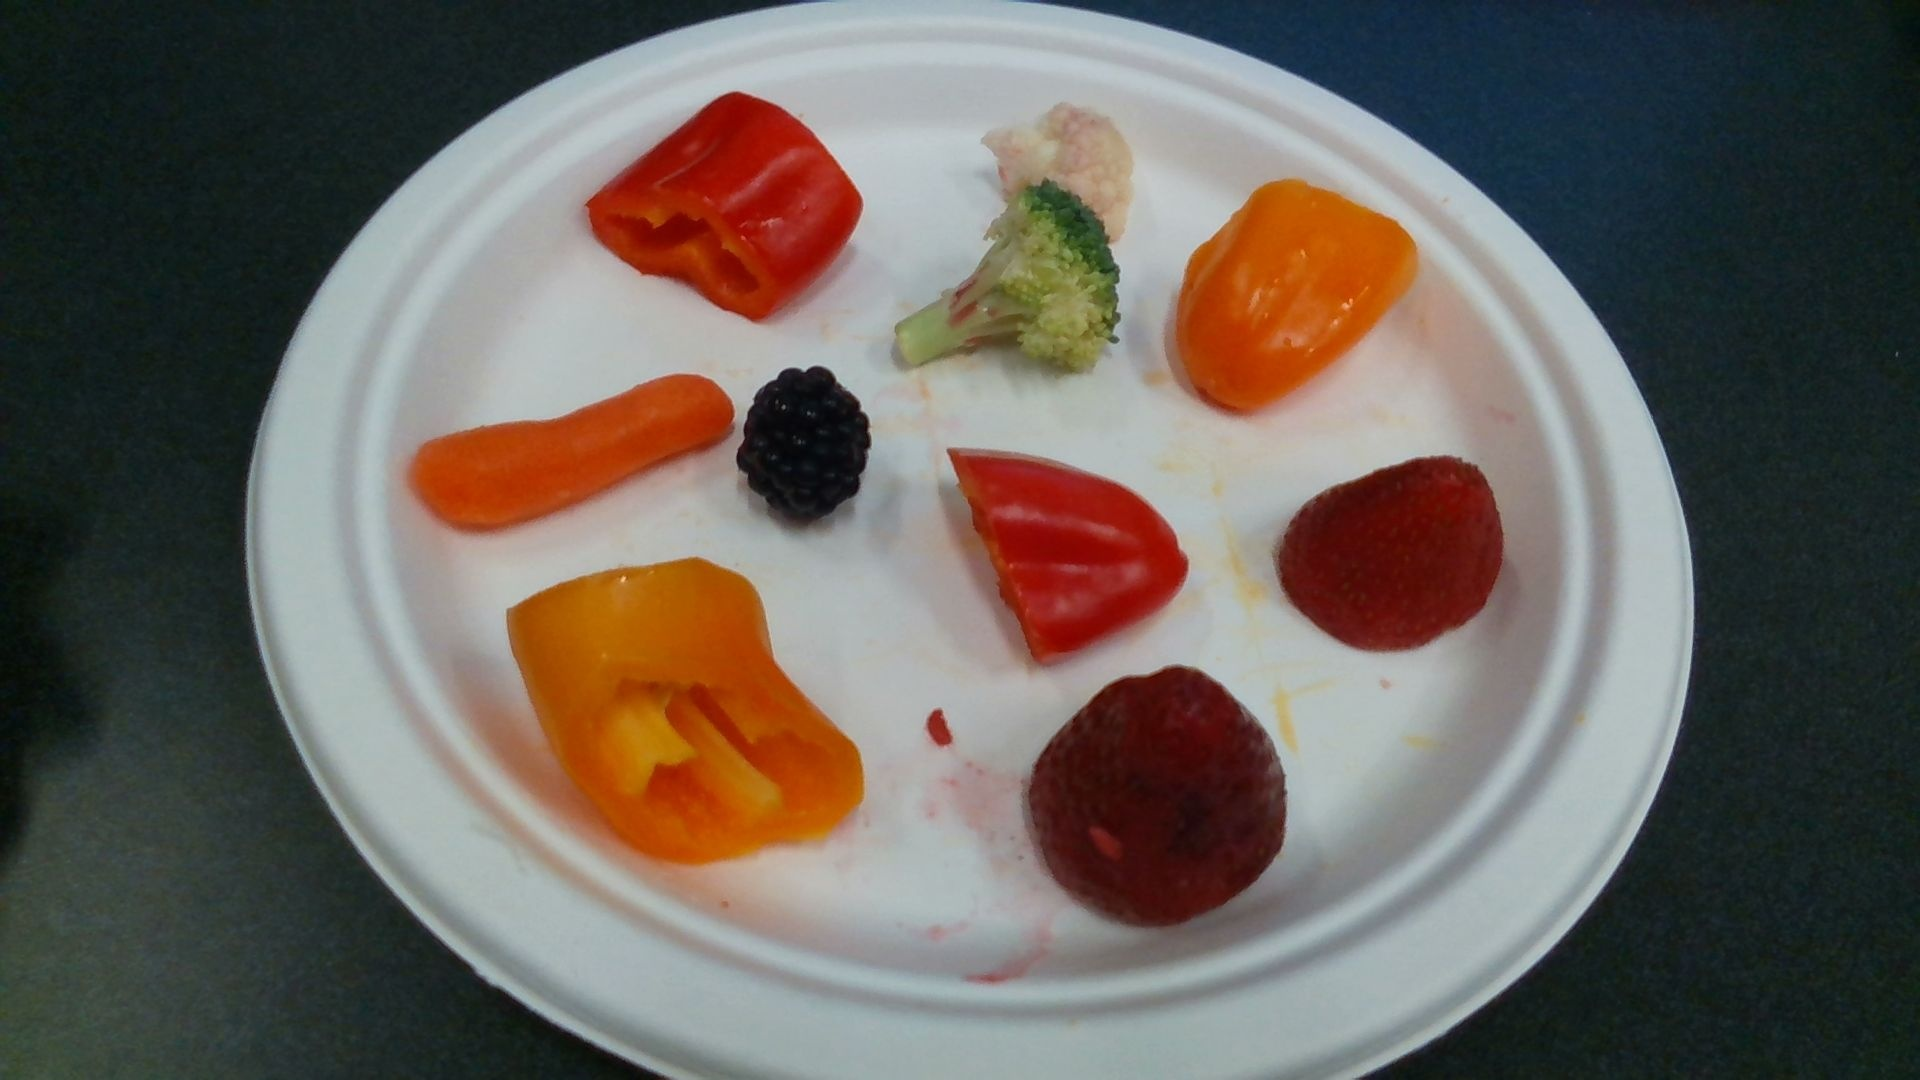bell_pepper: (509, 560, 862, 860), (589, 95, 858, 318), (1172, 181, 1418, 415), (949, 446, 1185, 661)
blackberry: (740, 371, 869, 521)
broccoli: (895, 185, 1117, 373)
carrot: (409, 378, 735, 525)
cauliflower: (985, 108, 1130, 228)
strawberry: (1034, 670, 1284, 924), (1280, 458, 1505, 647)
